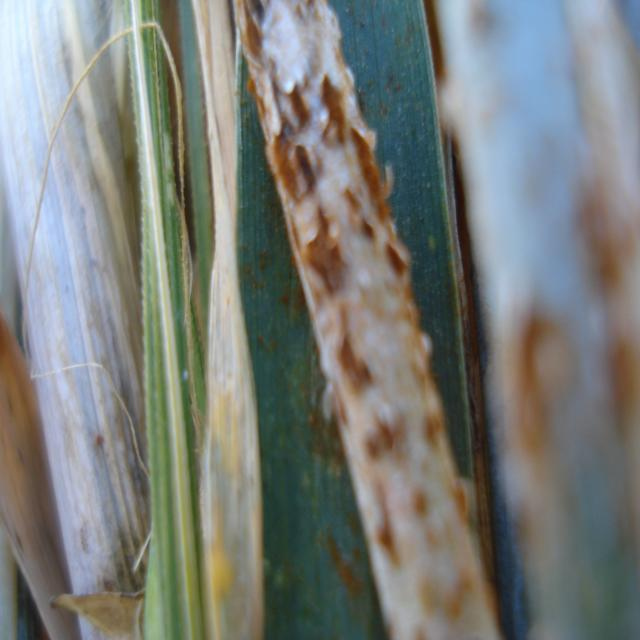wheat-stemrust: (233, 0, 507, 640), (426, 0, 640, 640)
